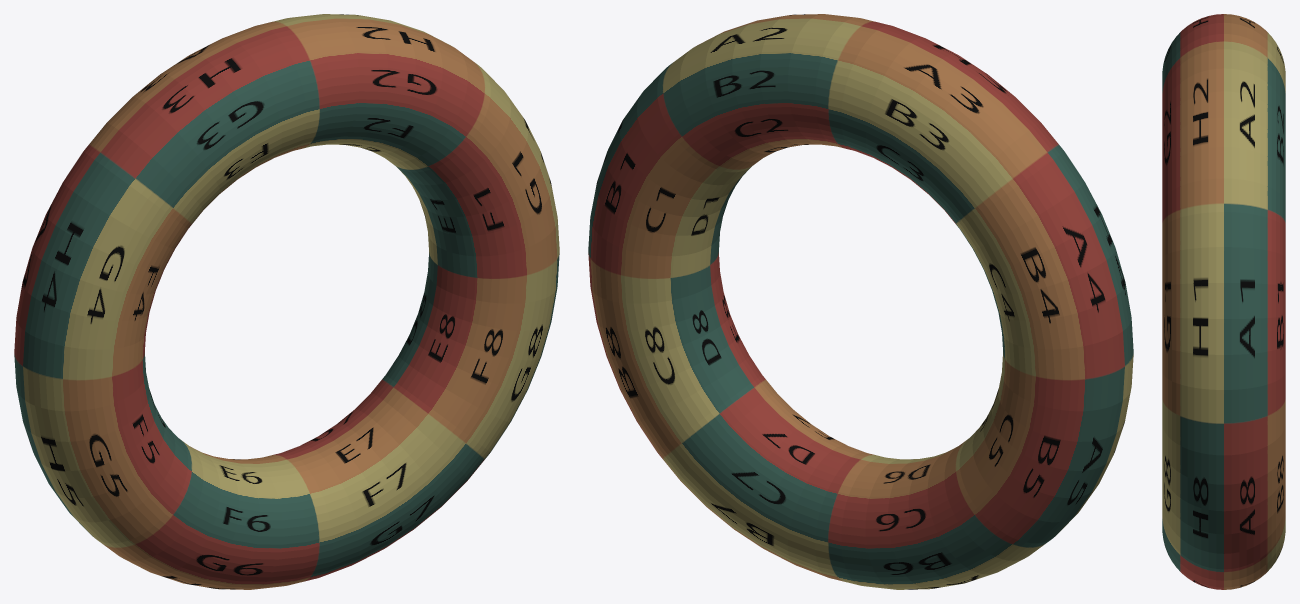
The model's file is texture_torus_R18_r15.glb.
The picture shows the model from 3 angles, left to right: view 1: azimuth 30°, elevation 25°; view 2: azimuth 150°, elevation 25°; view 3: azimuth 270°, elevation 25°; orthographic projection. The views are drawn at different scales.
Parts seen in each view (by area): view 1: world; view 2: world; view 3: world.
Boxes of the visible parts, x1,y1,x2,y2 form: world: [14, 14, 559, 589]; world: [588, 14, 1133, 589]; world: [1162, 14, 1285, 589].
Size of the model in its own units: 28 by 27.94 by 5.99.
Materials: 1 (1 with a texture image).
